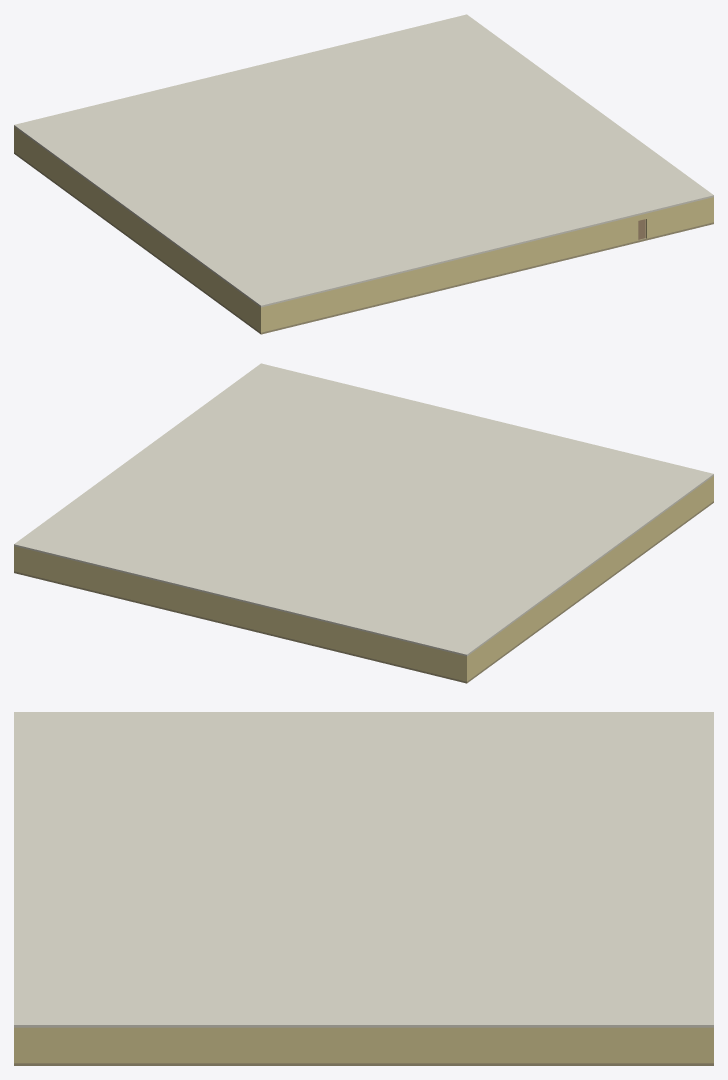
File: gbi_L1_4.glb
3 views of the same model, one above another, from view 1: azimuth 30°, elevation 25°; view 2: azimuth 150°, elevation 25°; view 3: azimuth 270°, elevation 25° (orthographic). The views are drawn at different scales.
Visible parts, largest first — view 1: Ceiling, Wall_S_1, Wall_W_1, Floor, Wall_S_3; view 2: Ceiling, Wall_N_1, Wall_W_1, Floor; view 3: Ceiling, Wall_E_1, Floor.
Boxes of the visible parts, <box> form: Ceiling: <box>14,14,713,307</box>; Wall_S_1: <box>260,215,638,332</box>; Wall_W_1: <box>15,127,259,331</box>; Floor: <box>14,152,713,334</box>; Wall_S_3: <box>646,197,713,238</box>; Ceiling: <box>14,363,713,656</box>; Wall_N_1: <box>14,546,467,681</box>; Wall_W_1: <box>468,476,712,680</box>; Floor: <box>14,501,713,683</box>; Ceiling: <box>14,712,713,1027</box>; Wall_E_1: <box>16,1027,711,1063</box>; Floor: <box>14,1063,713,1065</box>.
Bounding box in the file's own units: 52.6 × 3.3 × 49.7.
